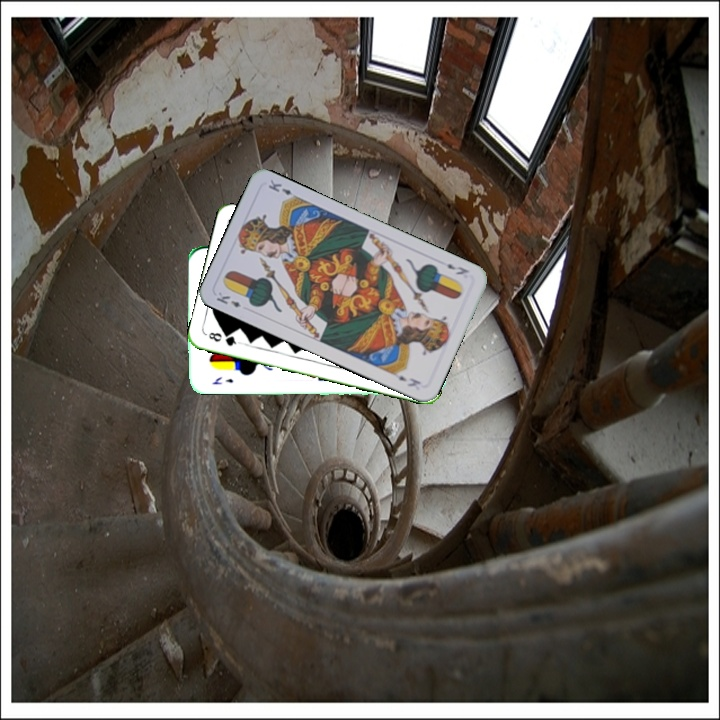EK: (212, 288, 244, 310), (443, 259, 471, 278), (208, 373, 235, 387)
G8: (204, 328, 243, 349)
